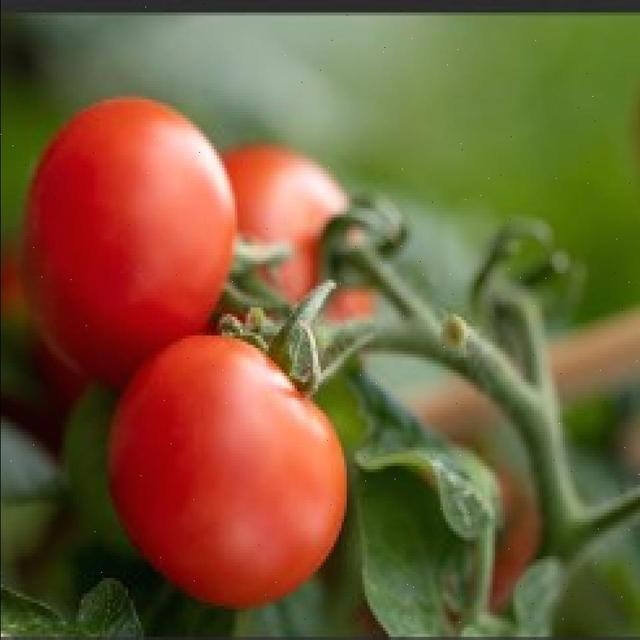Healthy Fruit: (85, 158, 195, 318)
